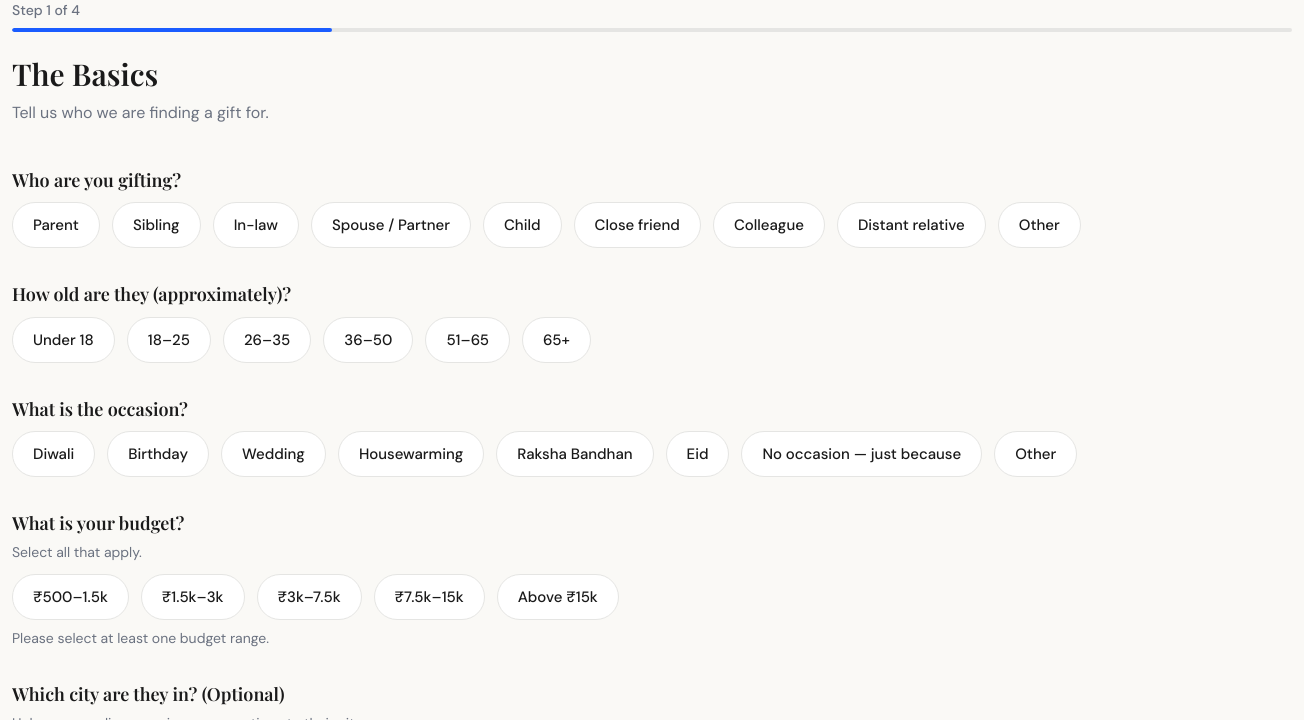
StartPage › next button becomes enabled when required fields are filled
The width and height of the screenshot is (1304, 720).
# Click relationship pill
Click the button "Close friend".
click(637, 225)  # box [574, 202, 701, 248]
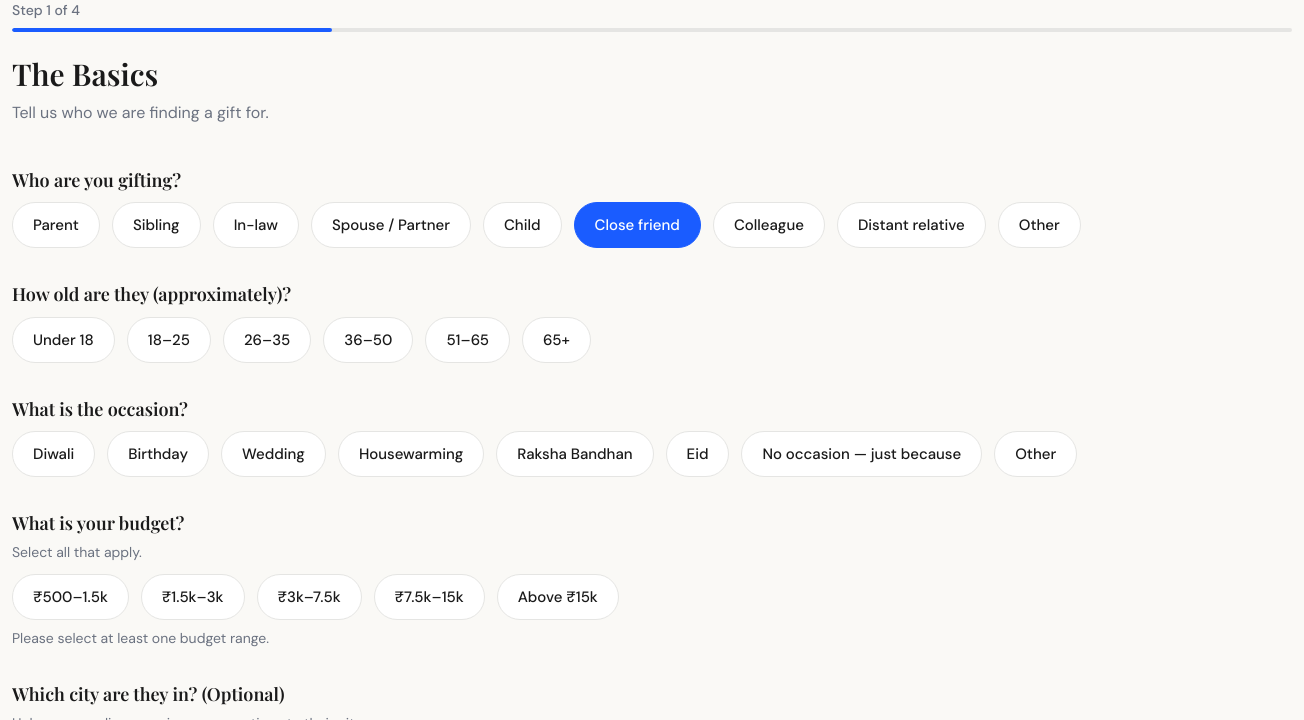
# Click age pill
Click the button "26–35".
click(267, 340)  # box [223, 317, 311, 363]
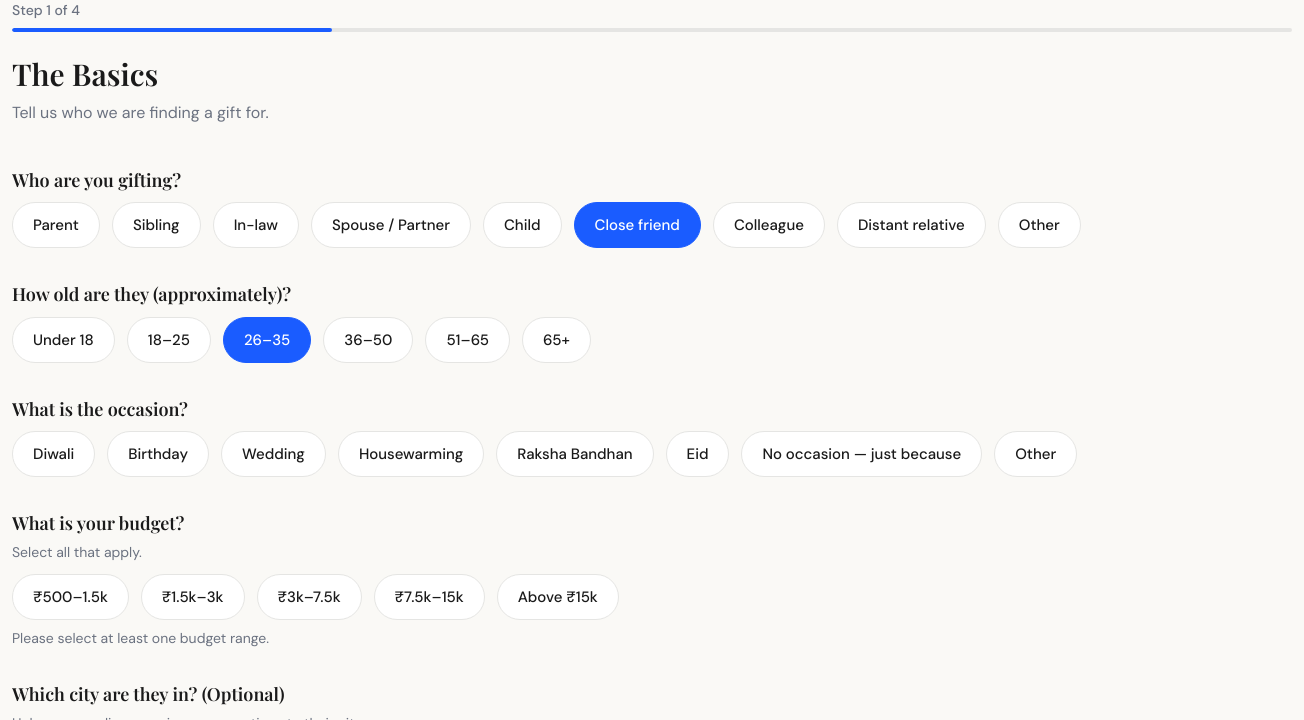
# Click occasion pill
Click the button "Birthday".
click(158, 454)  # box [107, 431, 209, 477]
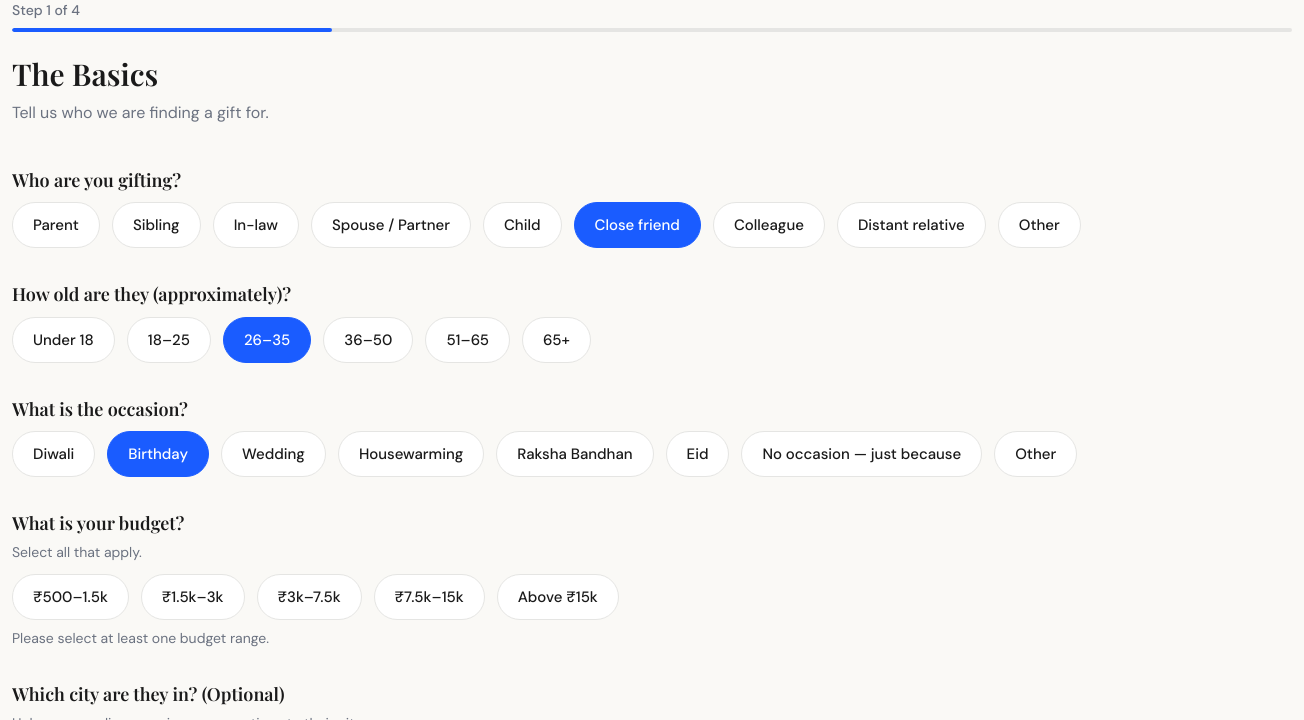
# Click budget pill
Click the button "₹3k–7.5k".
click(309, 597)  # box [256, 574, 362, 620]
(page scrolled)
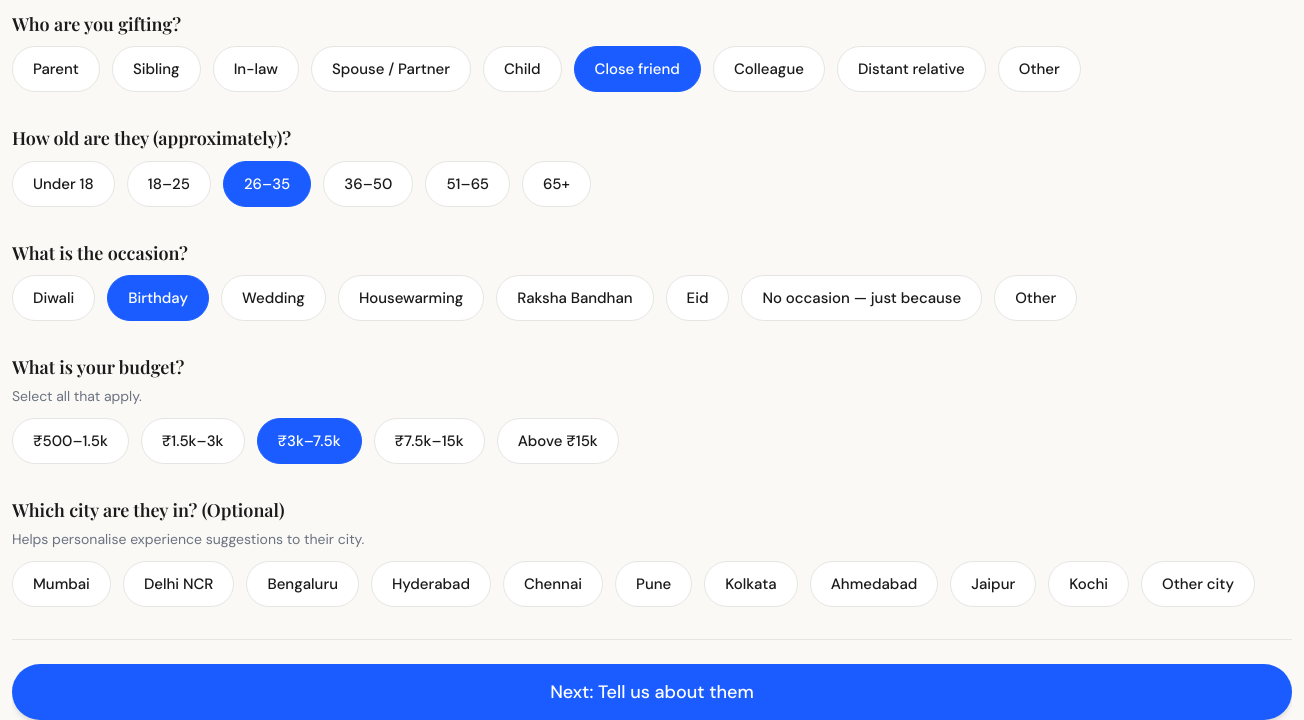
expect the button "Next: Tell us about them" is enabled: met, box [12, 664, 1292, 719]
